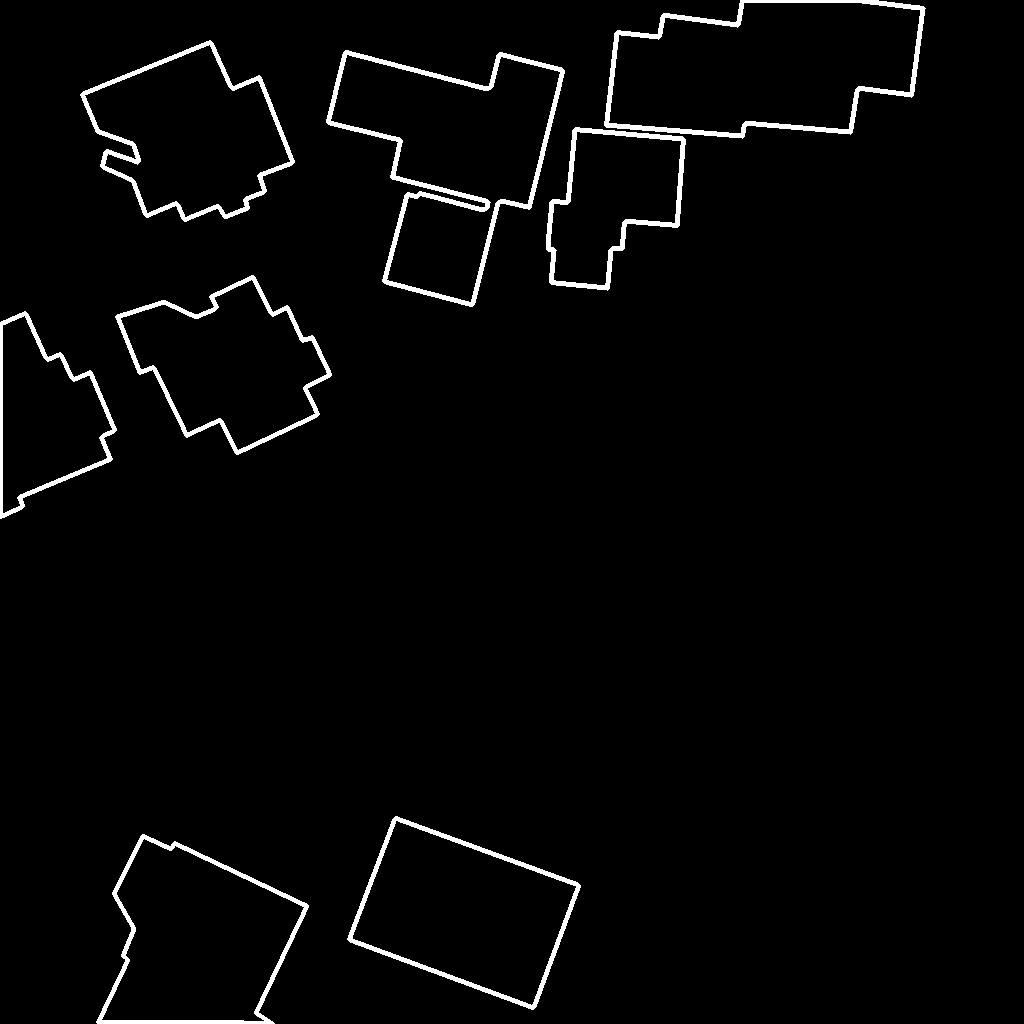building: (328, 52, 564, 306), (349, 818, 580, 1009), (606, 0, 924, 137), (98, 836, 308, 1024), (82, 42, 294, 221), (117, 277, 331, 454), (0, 313, 116, 518), (548, 129, 685, 289), (0, 122, 2, 125)
